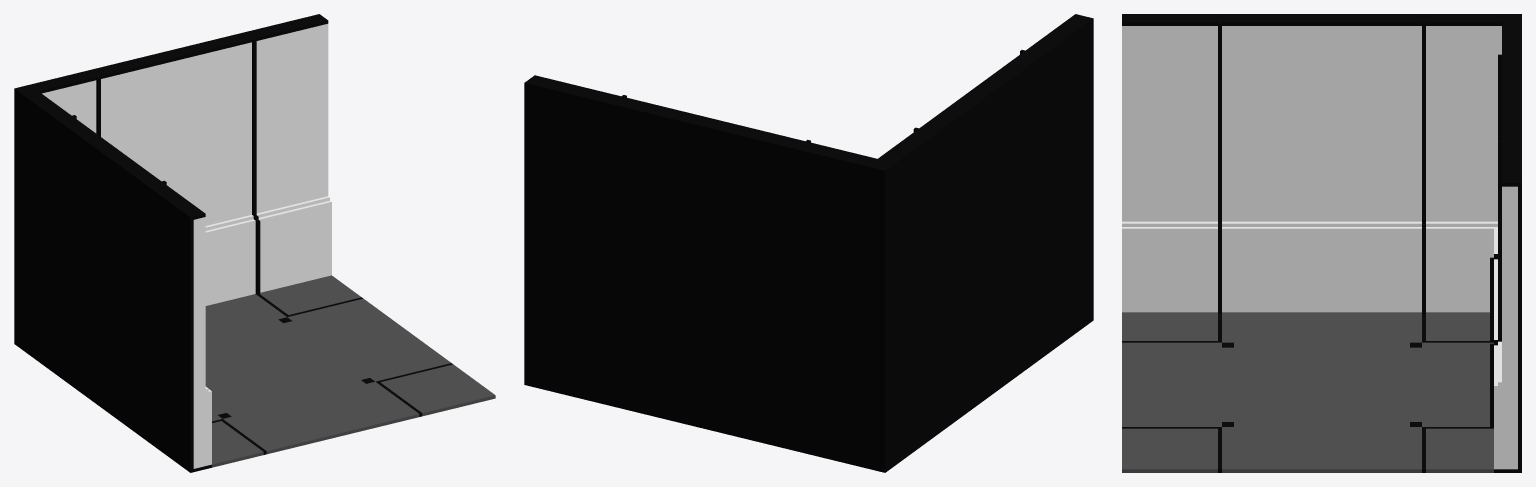
Rendered from Corner.obj.
3 views of the same model, side by side, from view 1: azimuth 30°, elevation 25°; view 2: azimuth 150°, elevation 25°; view 3: azimuth 270°, elevation 25° (orthographic). The views are drawn at different scales.
Size of the model in its own units: 10 by 8 by 10.
